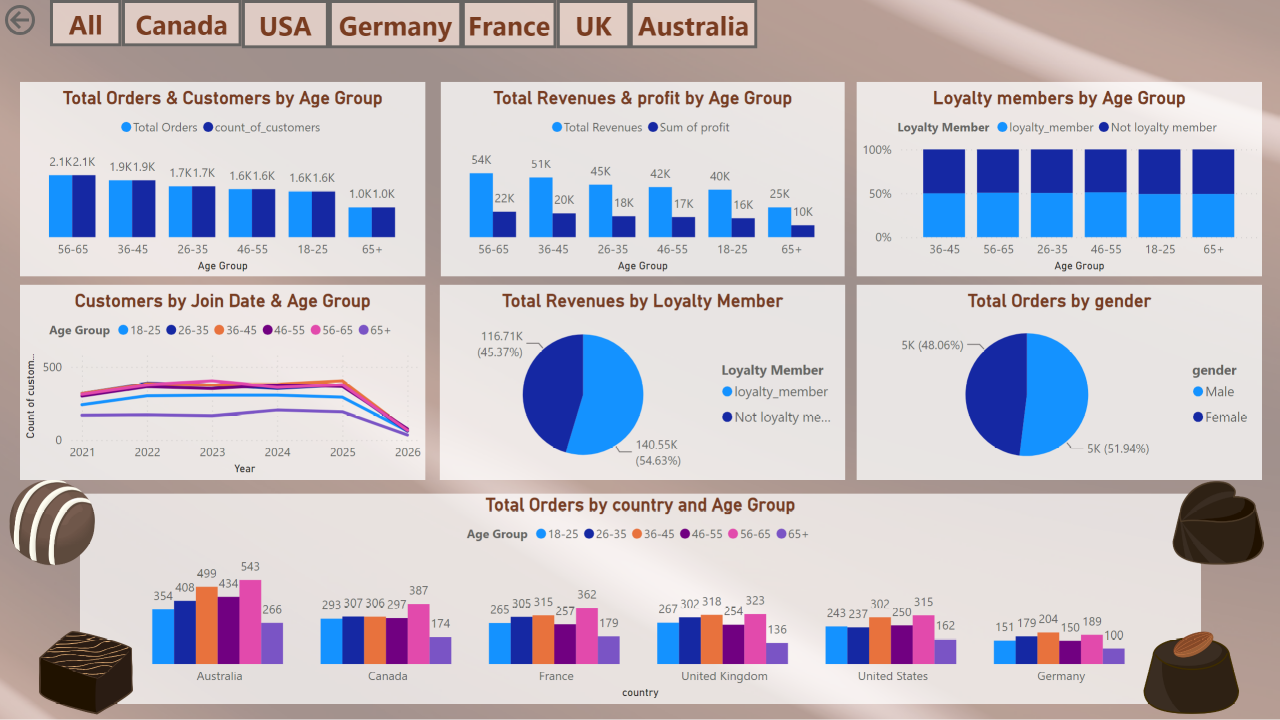

The page's visual inventory and layout, read from the dashboard file:
{"tool":"powerbi","page":{"name":"Customers Performance","canvas":[1280,720],"ordinal":3},"visuals":[{"type":"pieChart","fields":{"Category":["Customers.gender"],"Y":["Sales.Total Orders"]},"box":[857.4,285.3,405.6,194.3],"z":0},{"type":"clusteredColumnChart","title":"Total Revenues & profit by Age Group","fields":{"Category":["Customers.Age Group"],"Y":["Sales.Total Revenues","Sum(Sales.profit)"]},"box":[441.1,81.7,404,194.3],"z":1000},{"type":"clusteredColumnChart","title":"Total Orders & Customers by Age Group","fields":{"Category":["Customers.Age Group"],"Y":["Sales.Total Orders","Sales.count_of_customers"]},"box":[20,81.7,405.6,194.3],"z":2000},{"type":"hundredPercentStackedColumnChart","title":"Loyalty members by Age Group","fields":{"Category":["Customers.Age Group"],"Series":["Customers.Loyalty Member"],"Y":["Customers.Count_of_loyalty_member"]},"box":[857.4,81.7,405.6,194.3],"z":3000},{"type":"pieChart","fields":{"Category":["Customers.Loyalty Member"],"Y":["Sales.Total Revenues"]},"box":[439.5,285.3,405.6,194.3],"z":4000},{"type":"clusteredColumnChart","fields":{"Category":["Country_Mapping.country"],"Series":["Customers.Age Group"],"Y":["Sales.Total Orders"]},"box":[80.1,494.4,1121.3,209.5],"z":6000},{"type":"lineChart","title":"Customers by Join Date & Age Group","fields":{"Category":["Customers.join_date.Variation.Date Hierarchy.Year","Customers.join_date.Variation.Date Hierarchy.Quarter","Customers.join_date.Variation.Date Hierarchy.Month","Customers.join_date.Variation.Date Hierarchy.Day"],"Series":["Customers.Age Group"],"Y":["CountNonNull(Customers.customer_id)"]},"box":[20,285.3,405.6,194.3],"z":6001},{"type":"image","box":[0,480.4,104.3,85.3],"z":6002},{"type":"image","box":[38.6,627.5,94.1,92.5],"z":6003},{"type":"image","box":[1144.3,627.5,95.6,92.5],"z":6004},{"type":"image","box":[1172.5,467.8,91.7,110.6],"z":6005},{"type":"actionButton","box":[0,0,100,40],"z":6006},{"type":"actionButton","box":[50.2,0,71.4,46.3],"z":6007},{"type":"actionButton","box":[121.6,0,119.7,46.3],"z":6008},{"type":"actionButton","box":[241.7,0,87,48.3],"z":6009},{"type":"actionButton","box":[328.7,0,133.4,48.3],"z":6010},{"type":"actionButton","box":[462.1,0,94.7,48.3],"z":6011},{"type":"actionButton","box":[556.9,0,73.5,48.3],"z":6012},{"type":"actionButton","box":[630.3,0,127.6,48.3],"z":6013}]}

Visuals, with their boxes in screenshot pixels (x1, y1, x2, y2), scaled from the page's 1280x720 canvas onto the 1280x720 screenshot:
pieChart - Customers.gender x Sales.Total Orders: crop(857, 285, 1263, 480)
"Total Revenues & profit by Age Group" clusteredColumnChart: crop(441, 82, 845, 276)
"Total Orders & Customers by Age Group" clusteredColumnChart: crop(20, 82, 426, 276)
"Loyalty members by Age Group" hundredPercentStackedColumnChart: crop(857, 82, 1263, 276)
pieChart - Customers.Loyalty Member x Sales.Total Revenues: crop(440, 285, 845, 480)
clusteredColumnChart - Country_Mapping.country x Customers.Age Group: crop(80, 494, 1201, 704)
"Customers by Join Date & Age Group" lineChart: crop(20, 285, 426, 480)
image: crop(0, 480, 104, 566)
image: crop(39, 628, 133, 719)
image: crop(1144, 628, 1240, 719)
image: crop(1172, 468, 1264, 578)
actionButton: crop(0, 0, 100, 40)
actionButton: crop(50, 0, 122, 46)
actionButton: crop(122, 0, 241, 46)
actionButton: crop(242, 0, 329, 48)
actionButton: crop(329, 0, 462, 48)
actionButton: crop(462, 0, 557, 48)
actionButton: crop(557, 0, 630, 48)
actionButton: crop(630, 0, 758, 48)
